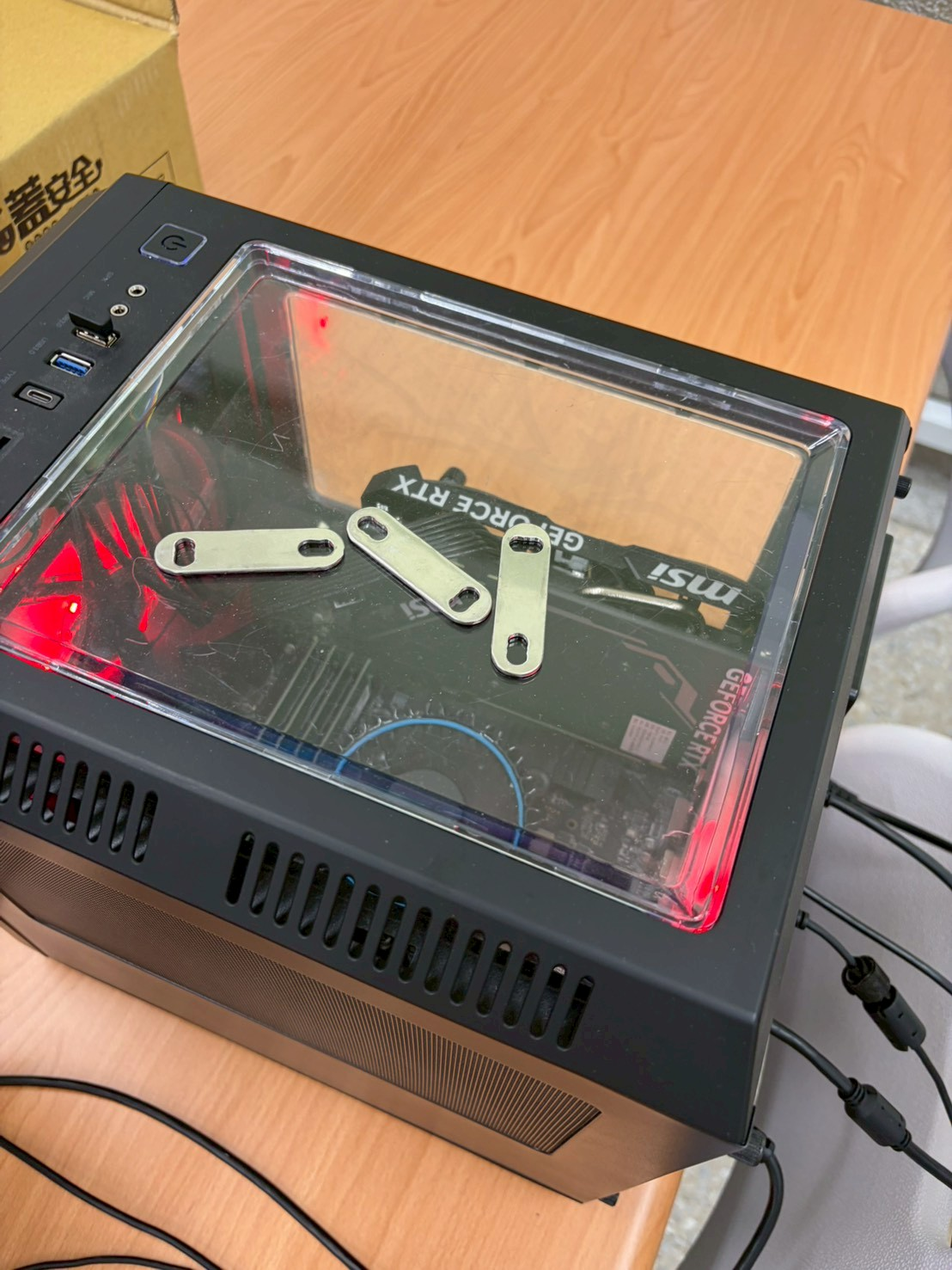Fe: (371, 496, 537, 548), (555, 523, 721, 575), (151, 536, 340, 579)
